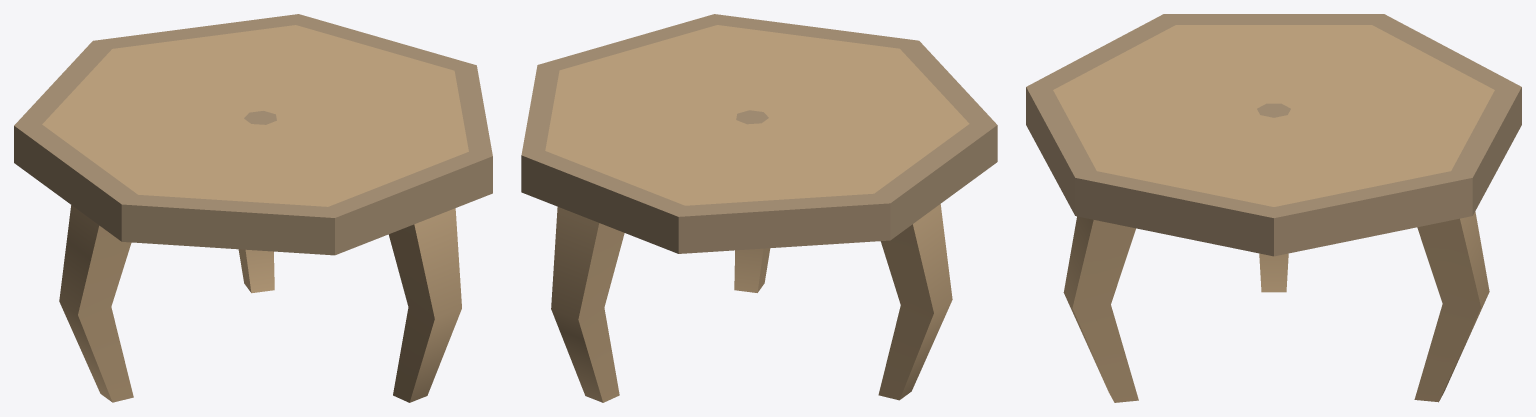
The model's file is TallTable.fbx.
3 renders of one model, left to right at view 1: azimuth 30°, elevation 25°; view 2: azimuth 150°, elevation 25°; view 3: azimuth 270°, elevation 25°, orthographic. The views are drawn at different scales.
Visible parts, largest first — view 1: polySurface3; view 2: polySurface3; view 3: polySurface3.
Boxes of the visible parts, x1,y1,x2,y2 form: polySurface3: (14,14,492,402); polySurface3: (521,14,997,402); polySurface3: (1026,14,1521,402).
Size of the model in its own units: 7.1 by 4.03 by 7.29.
